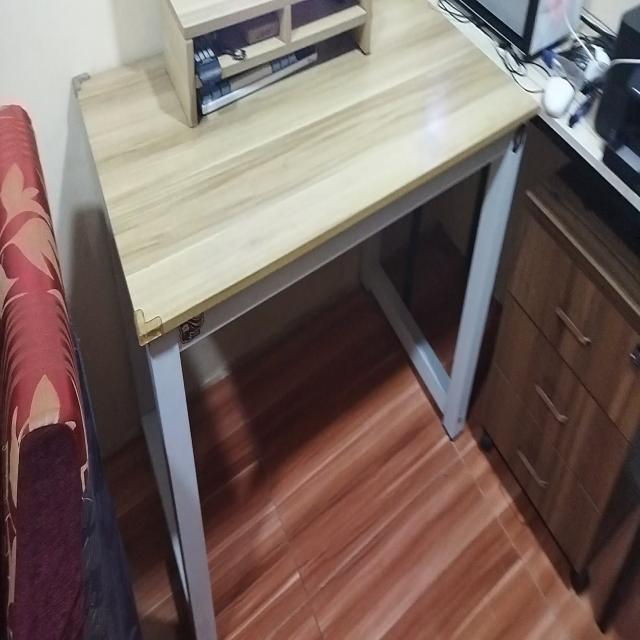table: (72, 16, 531, 640)
